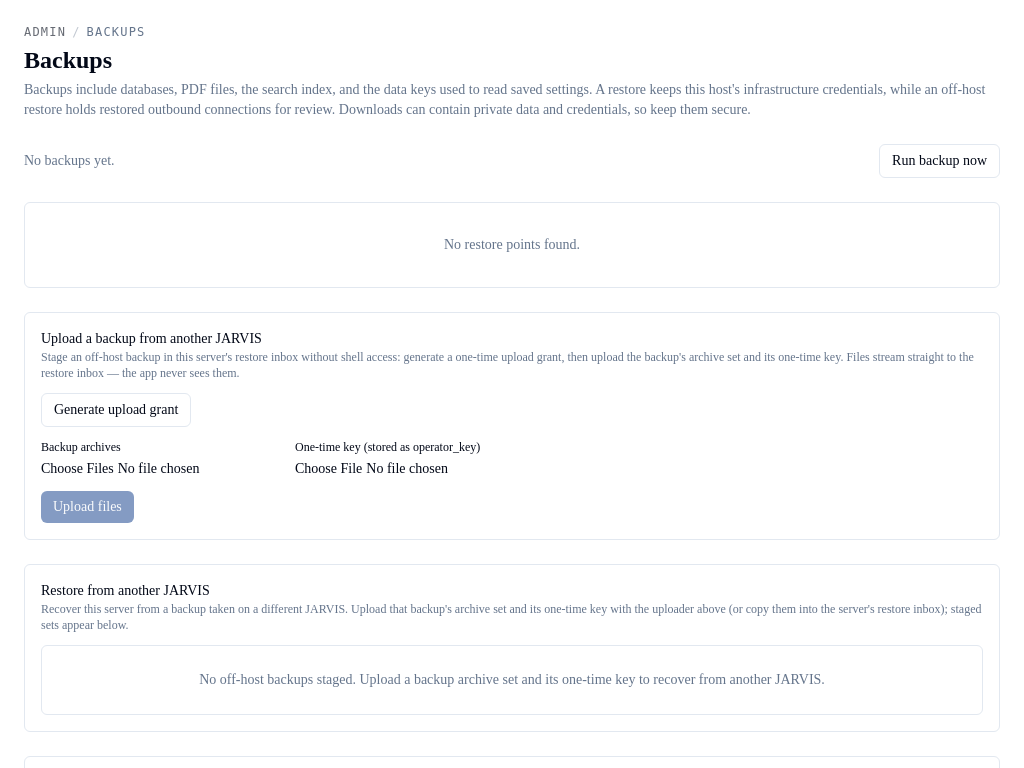
Test: OffHostUploadSection › mints an upload grant and shows the 30-minute expiry countdown
Step 1. Click the button with test id "generate-upload-grant" → (116, 410), box left=41, top=393, right=191, bottom=427
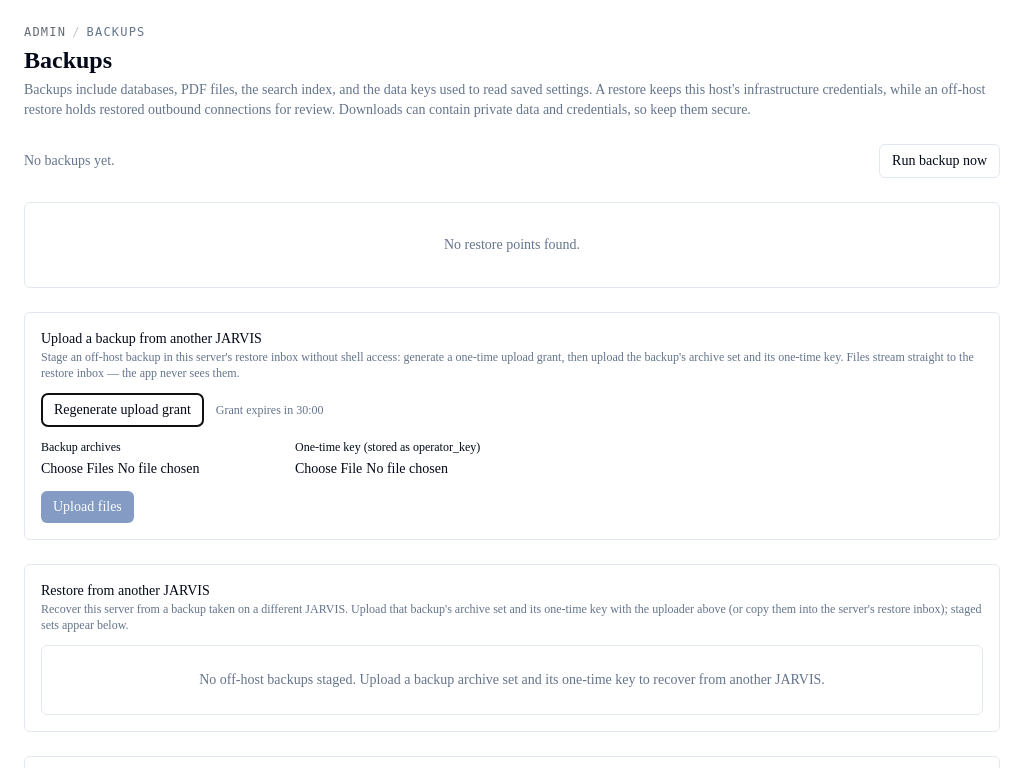
Check: the text "Grant expires in 30:00" is shown, box left=216, top=402, right=324, bottom=418
Check: the text with test id "upload-grant-countdown" reads "Grant expires in 30:00", box left=296, top=403, right=323, bottom=417
